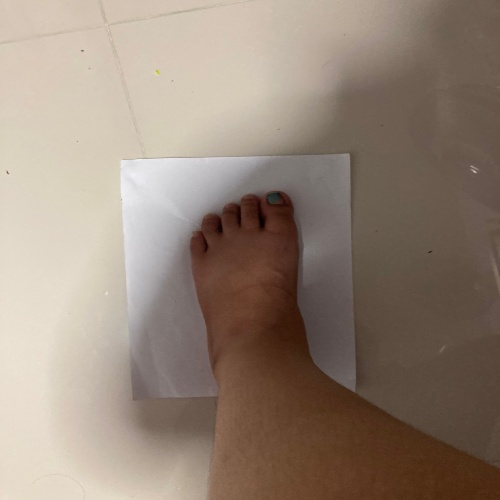Top_Foot: (96, 142, 399, 421)
